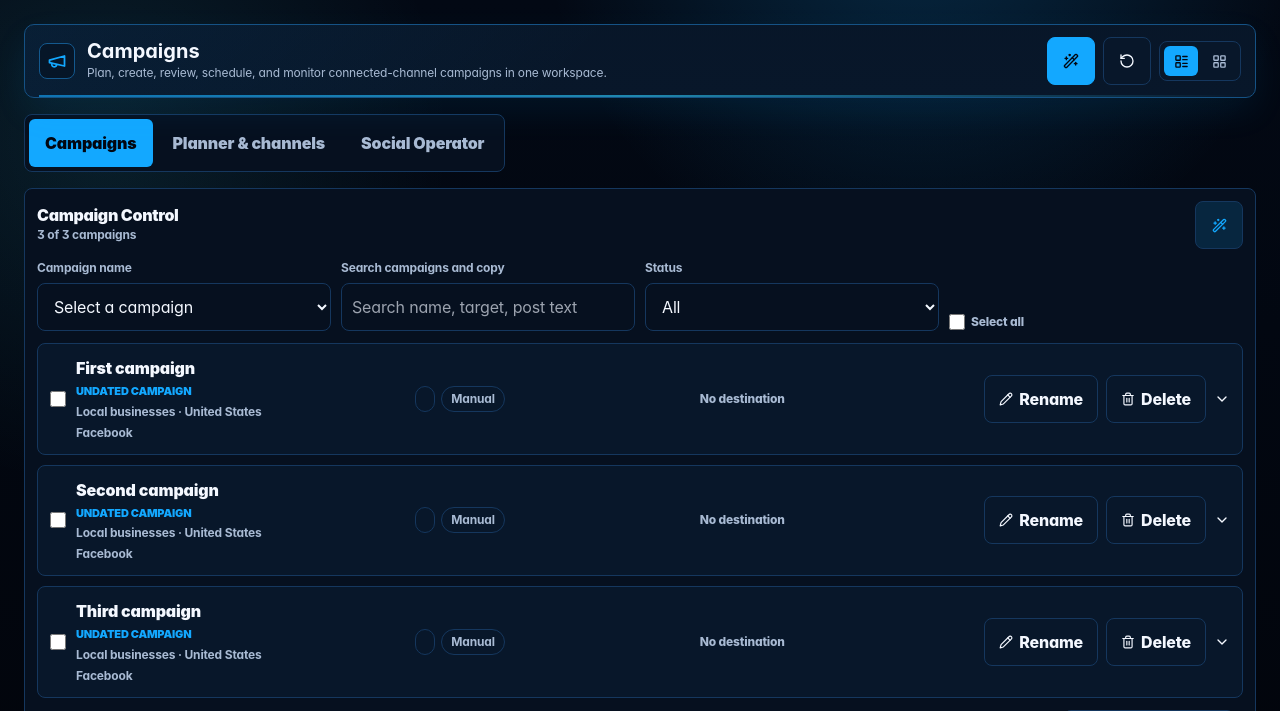
Campaigns downward drawers › supports keyboard expansion, child controls, close, and Escape
The image size is (1280, 711).
Press Enter in the button "First campaign", box [37, 343, 1243, 454]
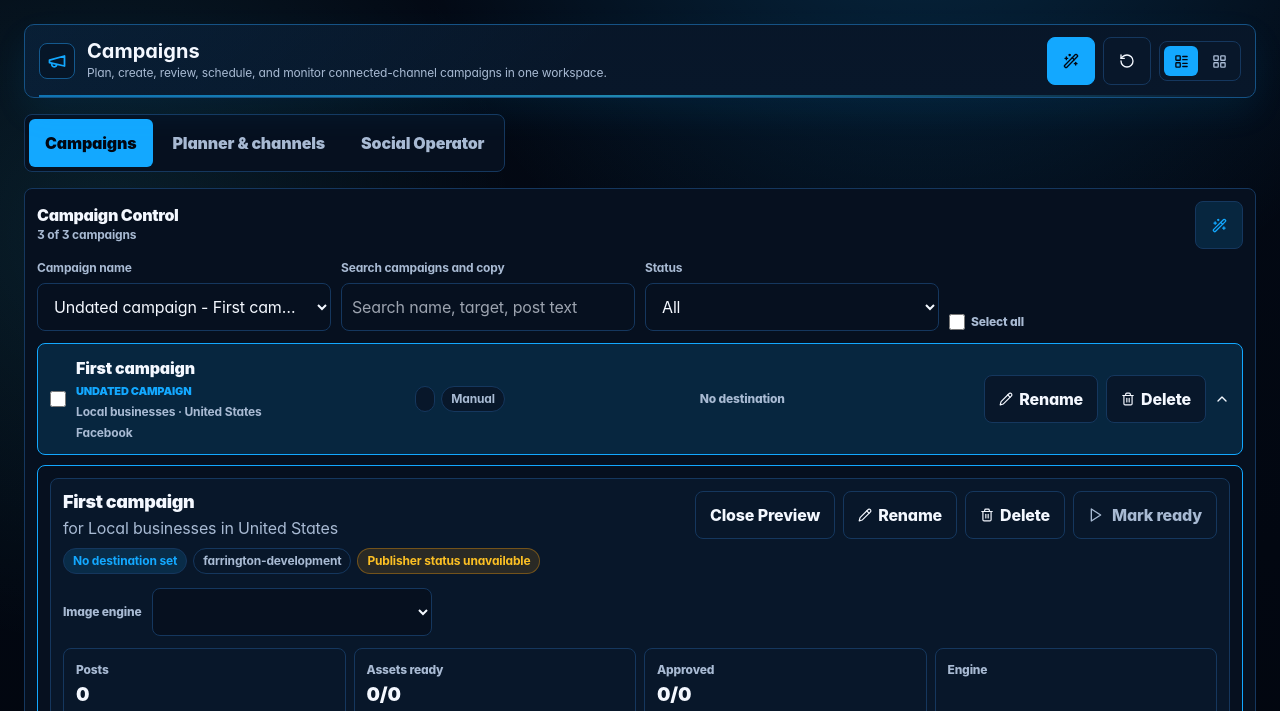
Expected: the button "First campaign" is expanded, [37, 343, 1243, 454]
Press Space in the checkbox named "Select First campaign", box [50, 391, 66, 407]
Expected: the button "First campaign" is expanded, [37, 343, 1243, 454]
Click the button "Close Preview" at (765, 514), box [695, 490, 835, 538]
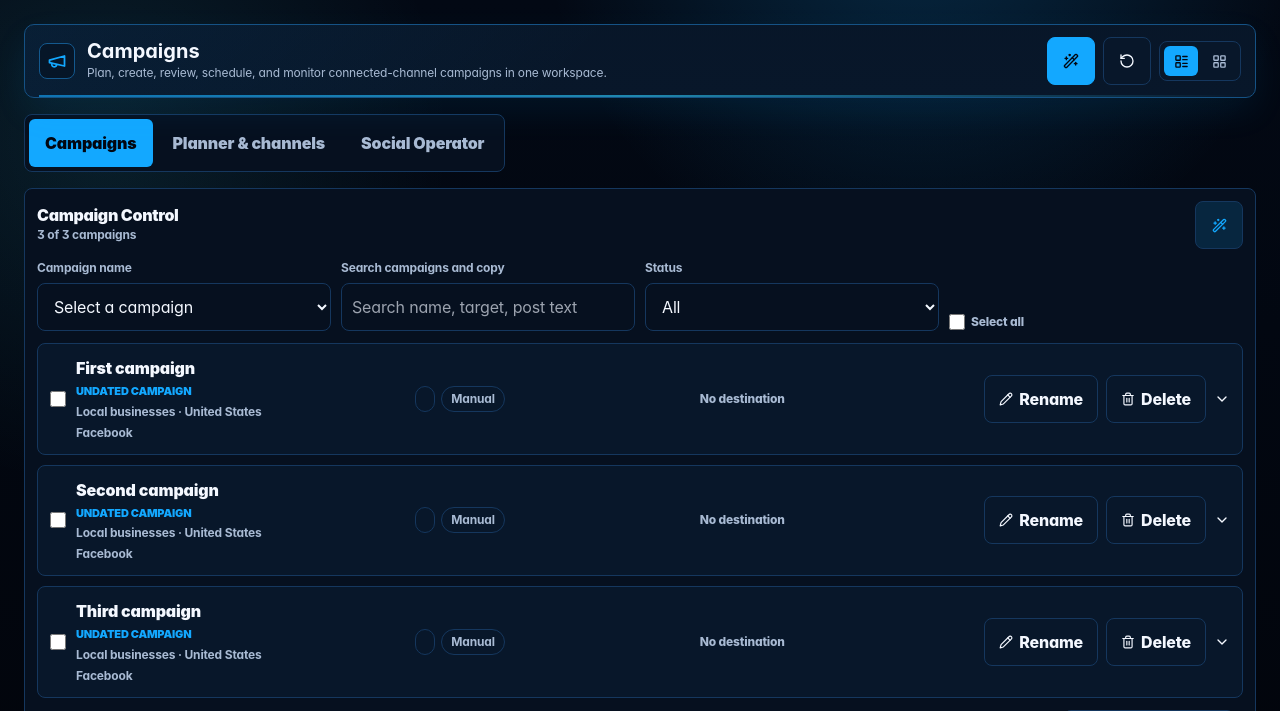
Expected: the button "First campaign" is collapsed
Press Space in the button "First campaign", box [37, 343, 1243, 454]
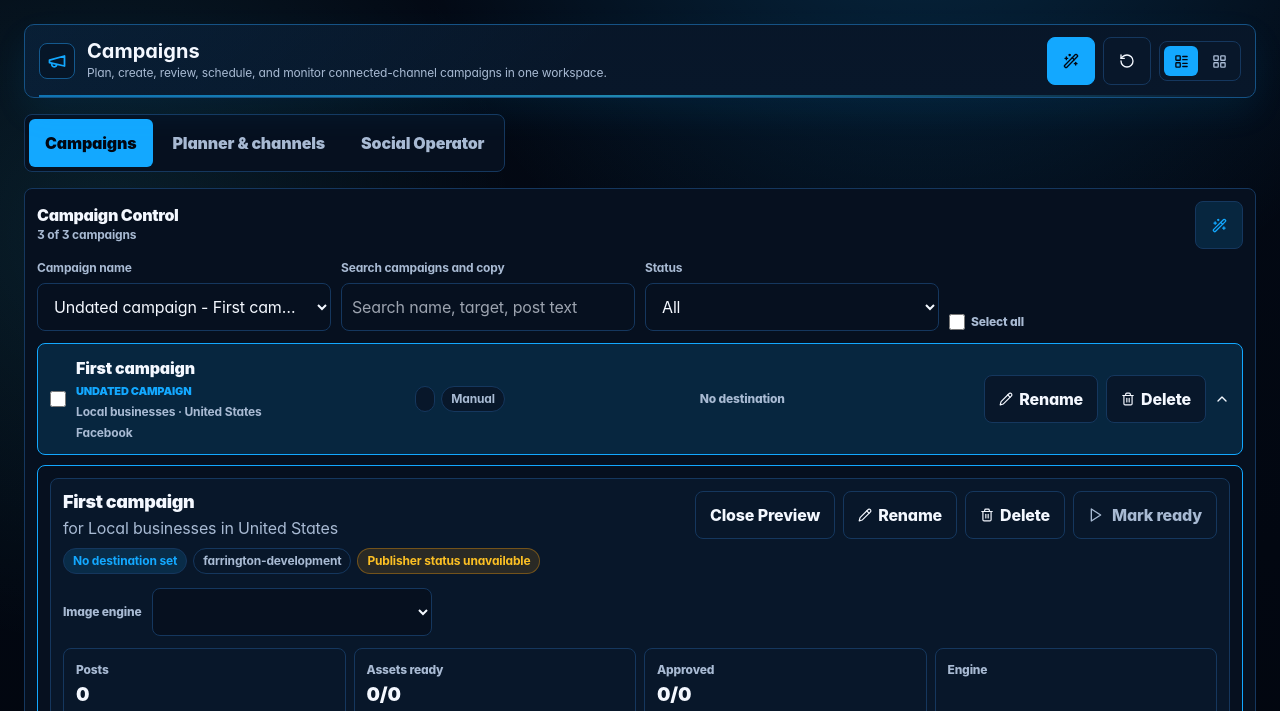
Expected: the button "First campaign" is expanded, [37, 343, 1243, 454]
Press Escape
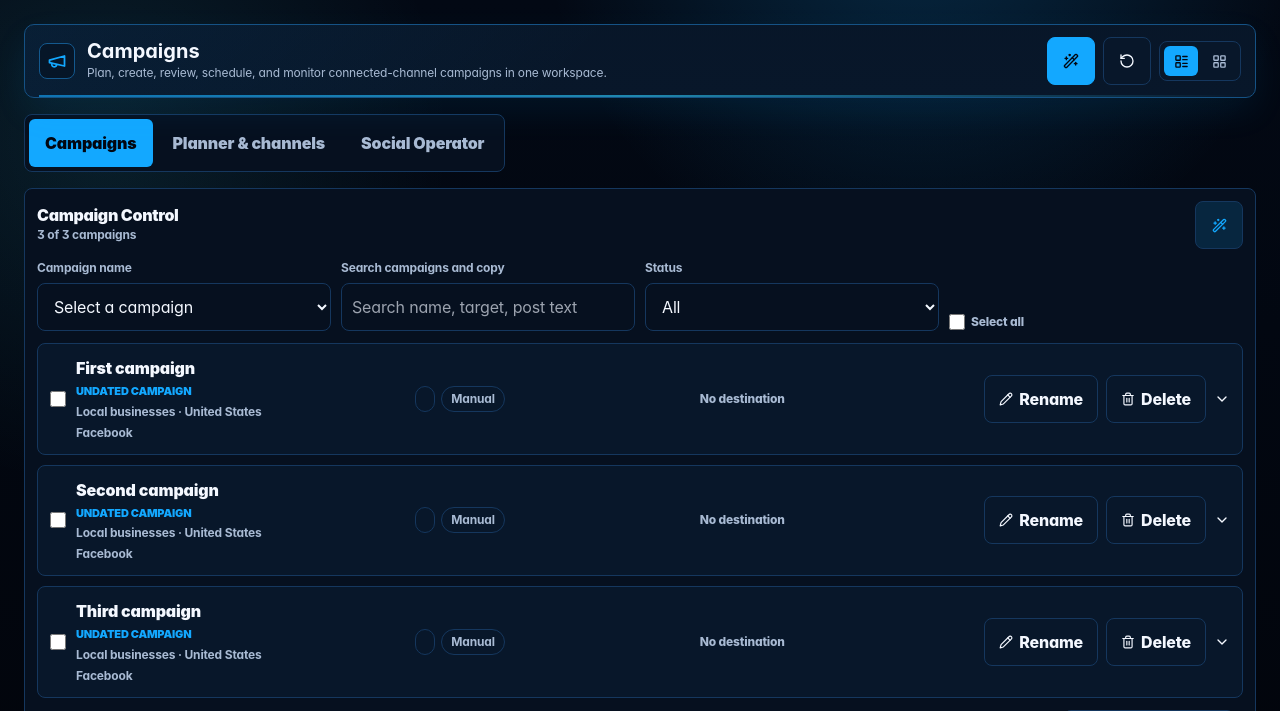
Expected: the button "First campaign" is collapsed, [37, 343, 1243, 454]
